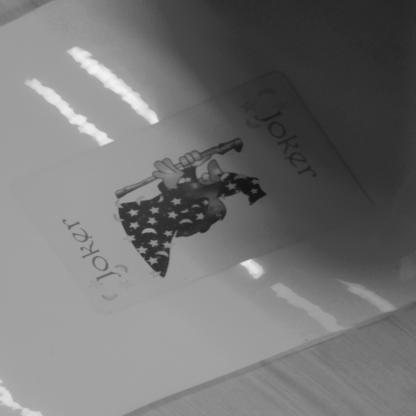BLACK JOKER: (226, 94, 358, 210), (48, 205, 140, 307)
